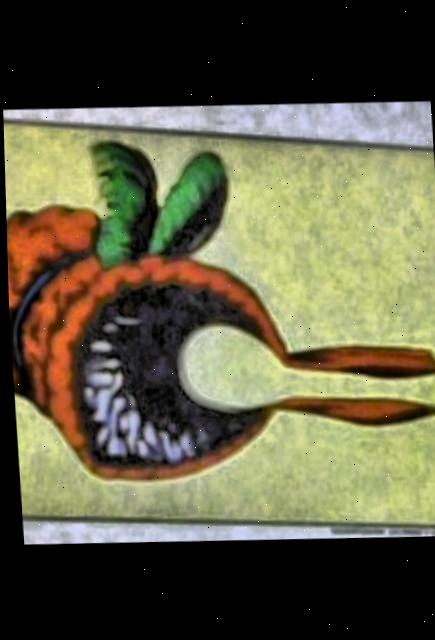El Gorrito: (3, 123, 435, 527)
